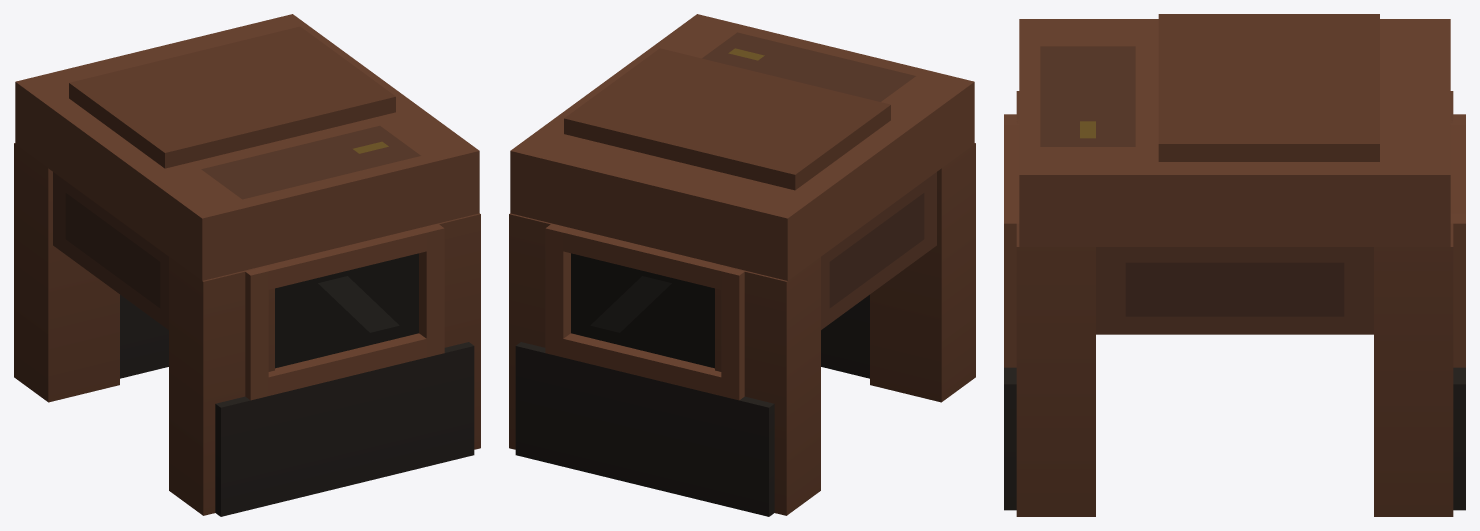
The model's file is machine.window.rust.glb.
The picture shows the model from 3 angles, left to right: view 1: azimuth 30°, elevation 25°; view 2: azimuth 150°, elevation 25°; view 3: azimuth 270°, elevation 25°; orthographic projection. The views are drawn at different scales.
Parts seen in each view (by area): view 1: machine_window_rust; view 2: machine_window_rust; view 3: machine_window_rust.
Boxes of the visible parts, x1=… form: machine_window_rust: x1=14, y1=14, x2=480, y2=516; machine_window_rust: x1=509, y1=14, x2=975, y2=516; machine_window_rust: x1=1004, y1=14, x2=1465, y2=516.
Size of what is drawn, in the model's own units: 1.86 by 2 by 2.33.
